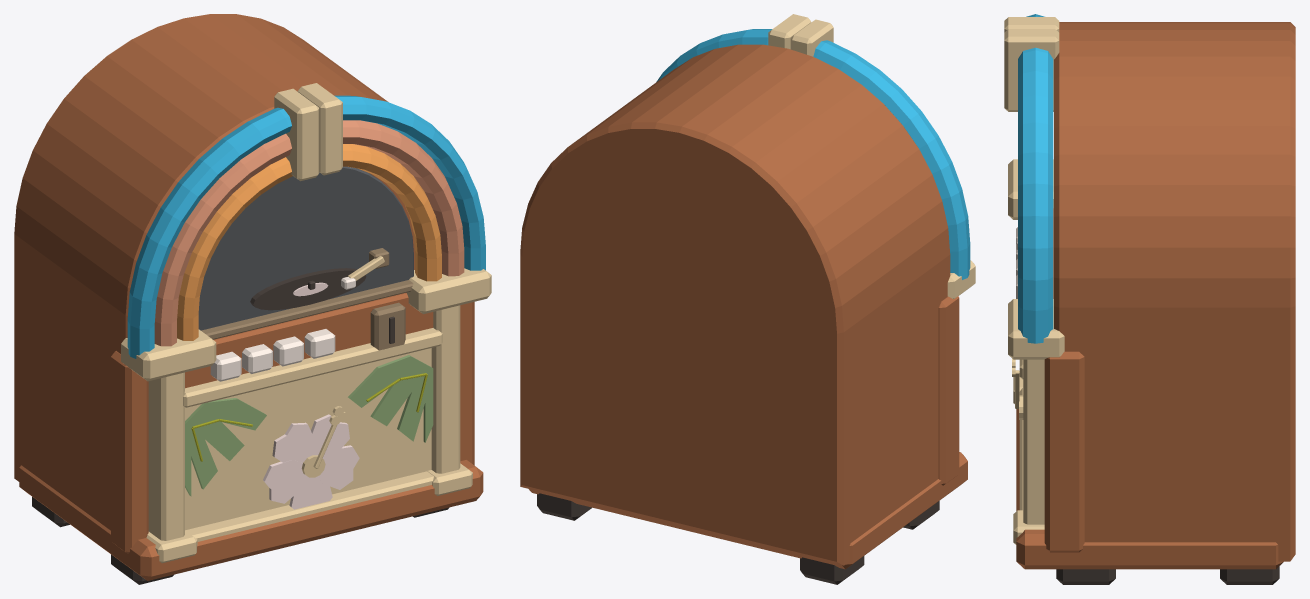
File: jukebox.glb
The picture shows the model from 3 angles, left to right: view 1: azimuth 30°, elevation 25°; view 2: azimuth 150°, elevation 25°; view 3: azimuth 270°, elevation 25°; orthographic projection. The views are drawn at different scales.
Visible parts, largest first — view 1: jukebox; view 2: jukebox; view 3: jukebox.
Part boxes in pixels (box(x1,y1,x2,y2)): jukebox: box(14, 14, 491, 584); jukebox: box(520, 14, 975, 584); jukebox: box(1004, 14, 1295, 584).
Size of the model in its own units: 2.68 by 3.36 by 1.85.
1 material, 1 textured.
